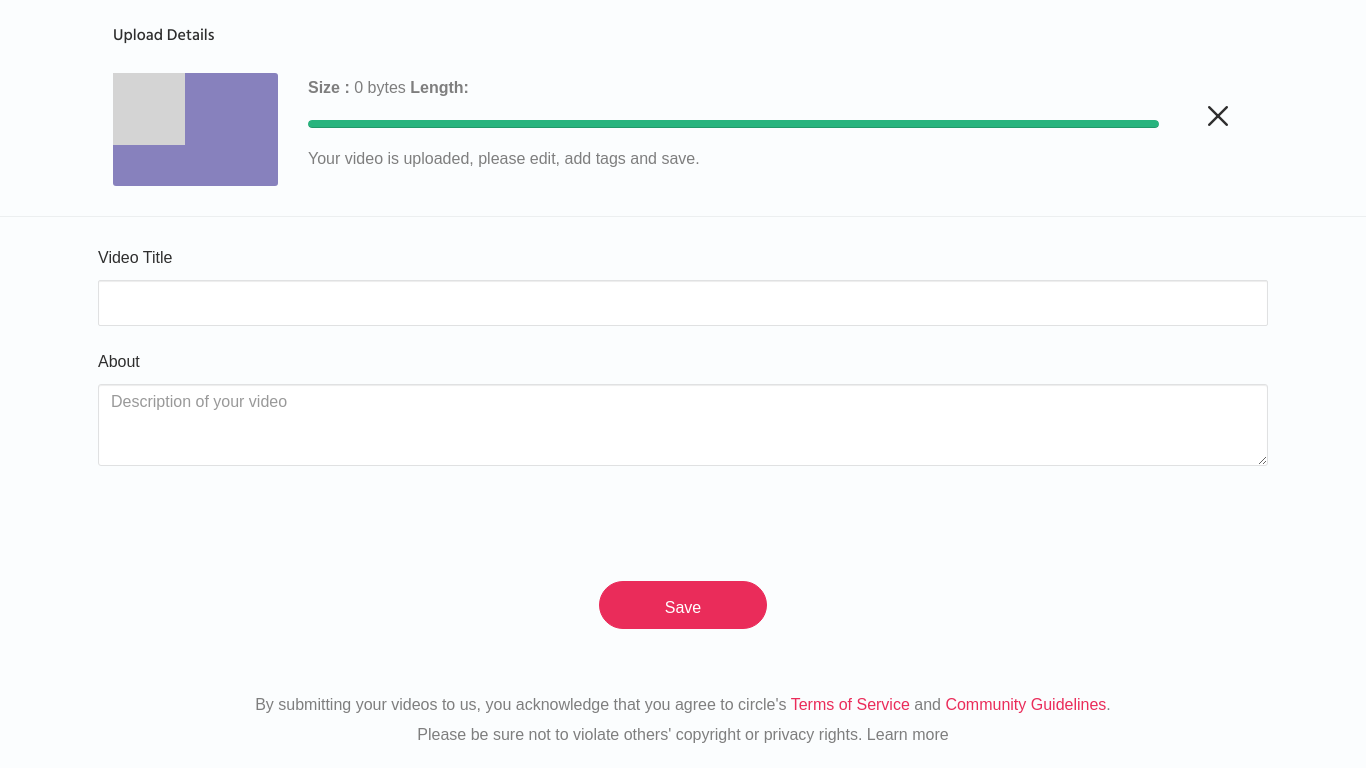
Test: UploadEdit › should set the video title on input change
Type "my test value" into the field labelled "Video Title" at (683, 303), box 98,280 -> 1268,326
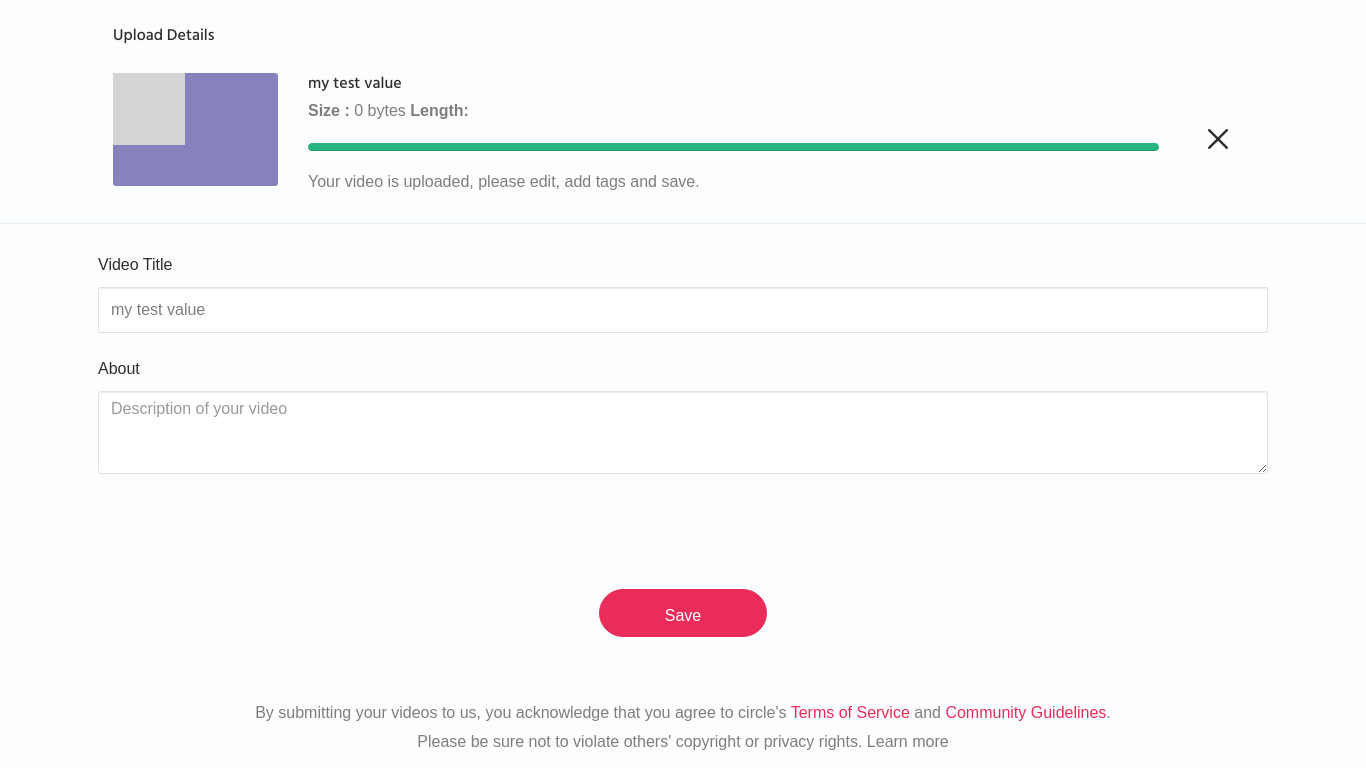
Expected: the text "my test value" is shown, 308,71 -> 402,97
